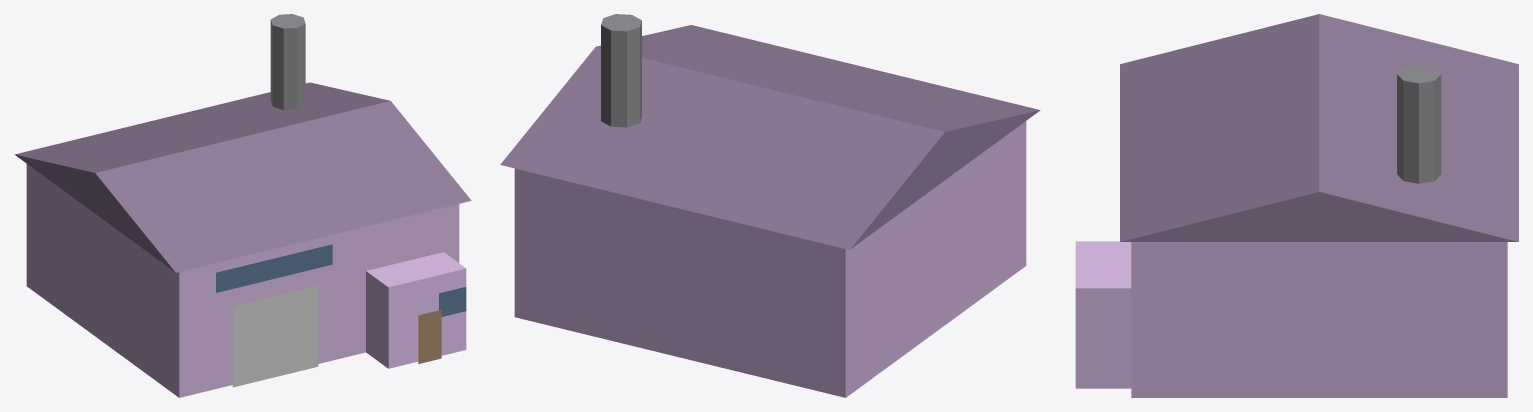
File: light_workshop.glb
3 views of the same model, side by side, from view 1: azimuth 30°, elevation 25°; view 2: azimuth 150°, elevation 25°; view 3: azimuth 270°, elevation 25° (orthographic). The views are drawn at different scales.
Visible parts, largest first — view 1: light_workshop; view 2: light_workshop; view 3: light_workshop.
Boxes of the visible parts, <box> form: light_workshop: <box>14,14,471,397</box>; light_workshop: <box>500,14,1040,397</box>; light_workshop: <box>1075,14,1518,397</box>.
Bounding box in the file's own units: 0.76 × 0.58 × 0.812.
